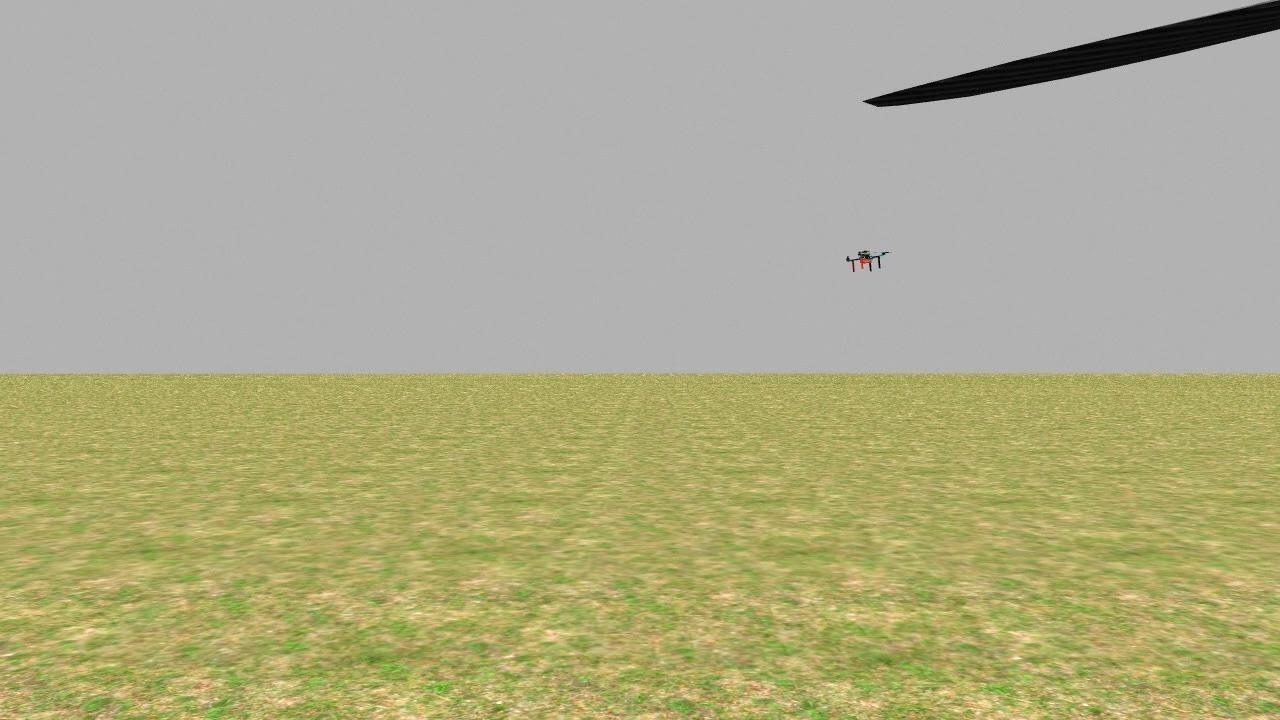UAV: (828, 228, 903, 278)
